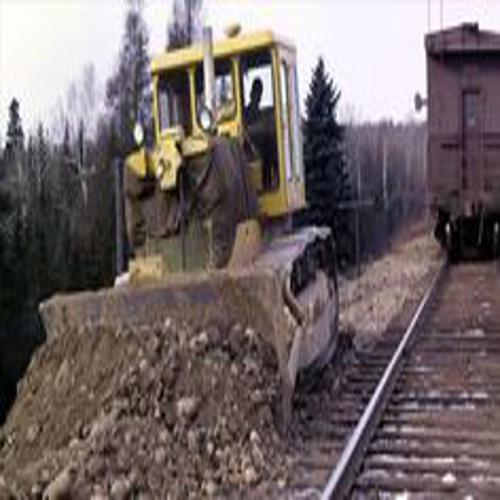con_eq: (33, 29, 346, 410)
